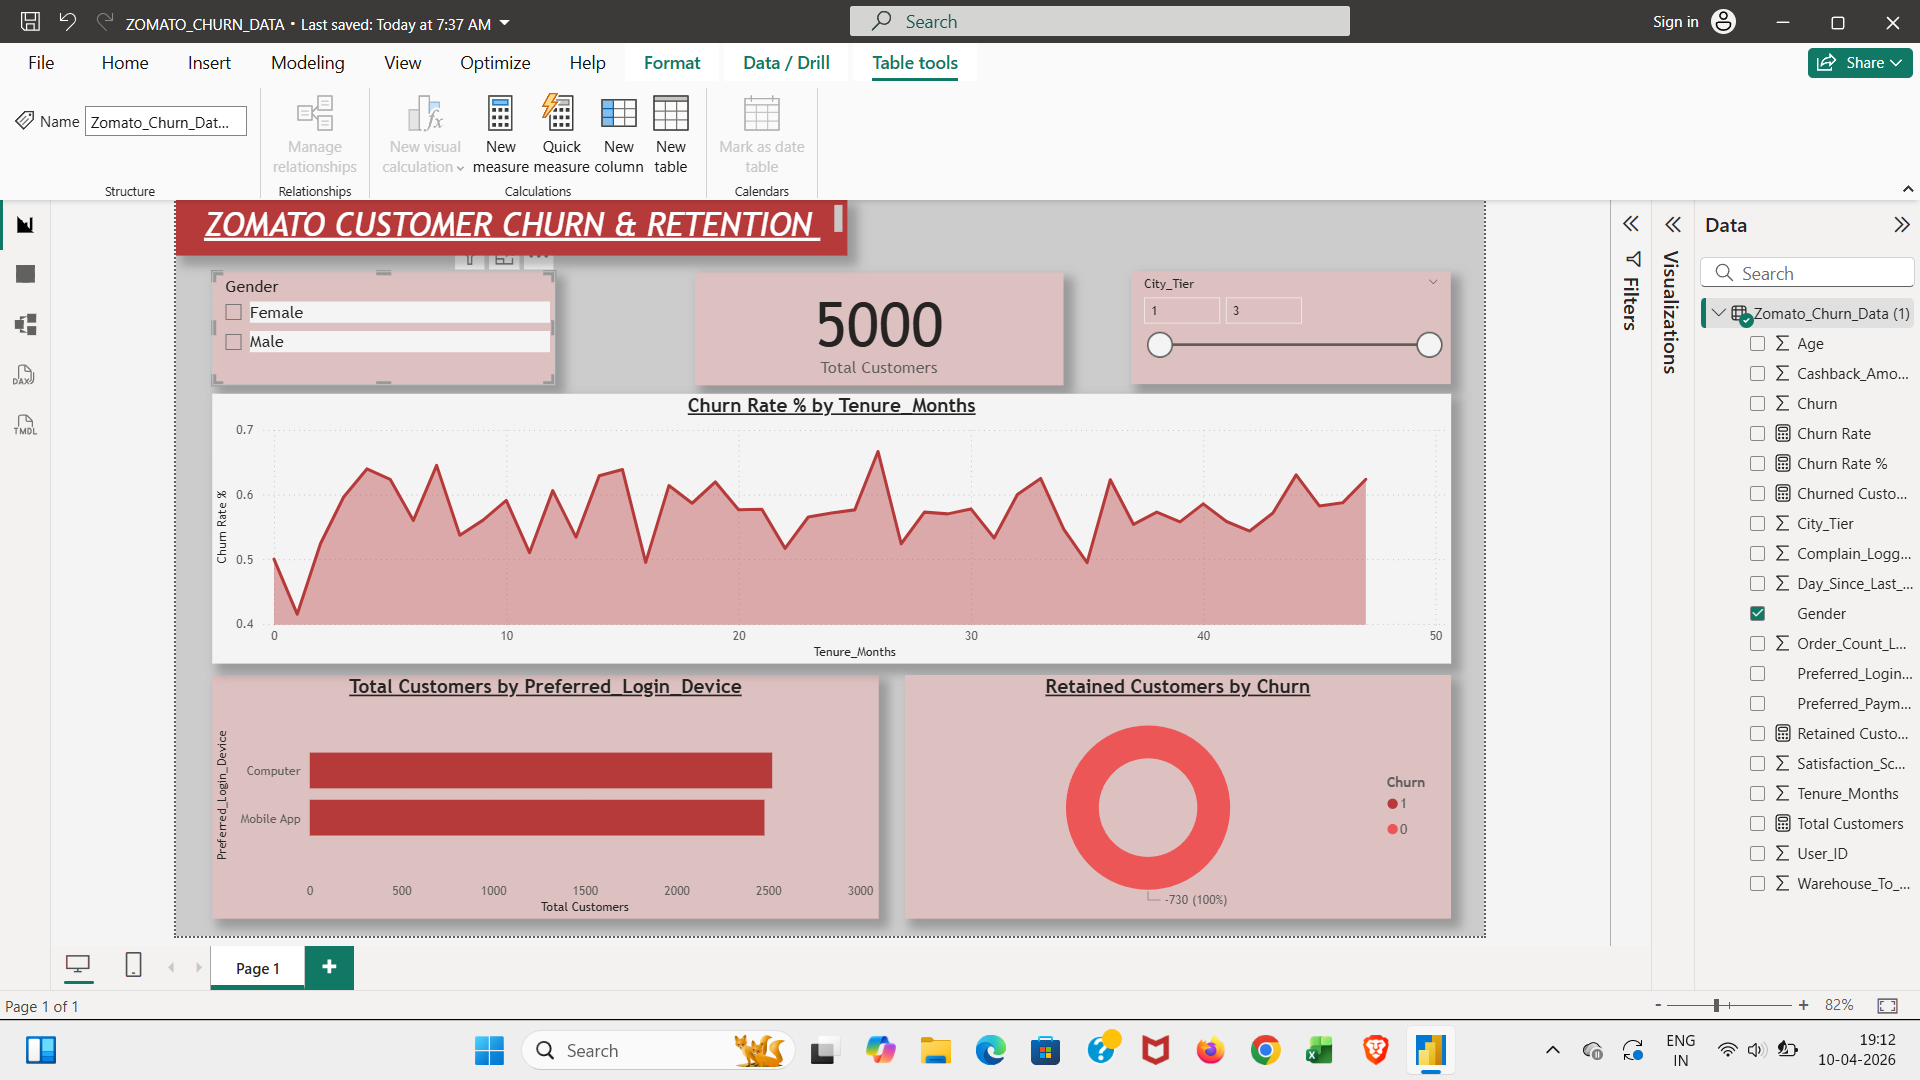

The page's visual inventory and layout, read from the dashboard file:
{"tool":"powerbi","page":{"name":"Page 1","canvas":[1280,720],"ordinal":0},"visuals":[{"type":"shape","box":[0,0,1280.3,720.4],"z":0},{"type":"card","fields":{"Values":["Zomato_Churn_Data (1).Total Customers"]},"box":[507.2,71.5,360.9,110.6],"z":1000},{"type":"slicer","fields":{"Values":["Zomato_Churn_Data (1).Gender"]},"box":[35.7,69.8,335.3,110.6],"z":2000},{"type":"slicer","fields":{"Values":["Zomato_Churn_Data (1).City_Tier"]},"box":[934.5,69.8,313.2,110.6],"z":3000},{"type":"barChart","fields":{"Category":["Zomato_Churn_Data (1).Preferred_Login_Device"],"Y":["Zomato_Churn_Data (1).Total Customers"]},"box":[35.7,464.7,651.9,238.3],"z":4000},{"type":"areaChart","fields":{"Category":["Zomato_Churn_Data (1).Tenure_Months"],"Y":["Zomato_Churn_Data (1).Churn Rate %"]},"box":[35.7,188.9,1211.9,263.8],"z":5000},{"type":"donutChart","fields":{"Y":["Zomato_Churn_Data (1).Retained Customers"],"Category":["Zomato_Churn_Data (1).Churn"]},"box":[713.2,464.7,534.5,238.3],"z":6000},{"type":"textbox","box":[0,0,657,54.5],"z":7000}]}

Visuals, with their boxes on the page's 1280x720 design canvas (x1, y1, x2, y2). These are canvas units, not pixel positions in the 1920x1080 screenshot, which may show the page scaled, cropped or inside an application window:
shape: bbox(0, 0, 1280, 720)
card - Zomato_Churn_Data (1).Total Customers: bbox(507, 72, 868, 182)
slicer - Zomato_Churn_Data (1).Gender: bbox(36, 70, 371, 180)
slicer - Zomato_Churn_Data (1).City_Tier: bbox(934, 70, 1248, 180)
barChart - Zomato_Churn_Data (1).Preferred_Login_Device x Zomato_Churn_Data (1).Total Customers: bbox(36, 465, 688, 703)
areaChart - Zomato_Churn_Data (1).Tenure_Months x Zomato_Churn_Data (1).Churn Rate %: bbox(36, 189, 1248, 453)
donutChart - Zomato_Churn_Data (1).Retained Customers x Zomato_Churn_Data (1).Churn: bbox(713, 465, 1248, 703)
textbox: bbox(0, 0, 657, 54)
